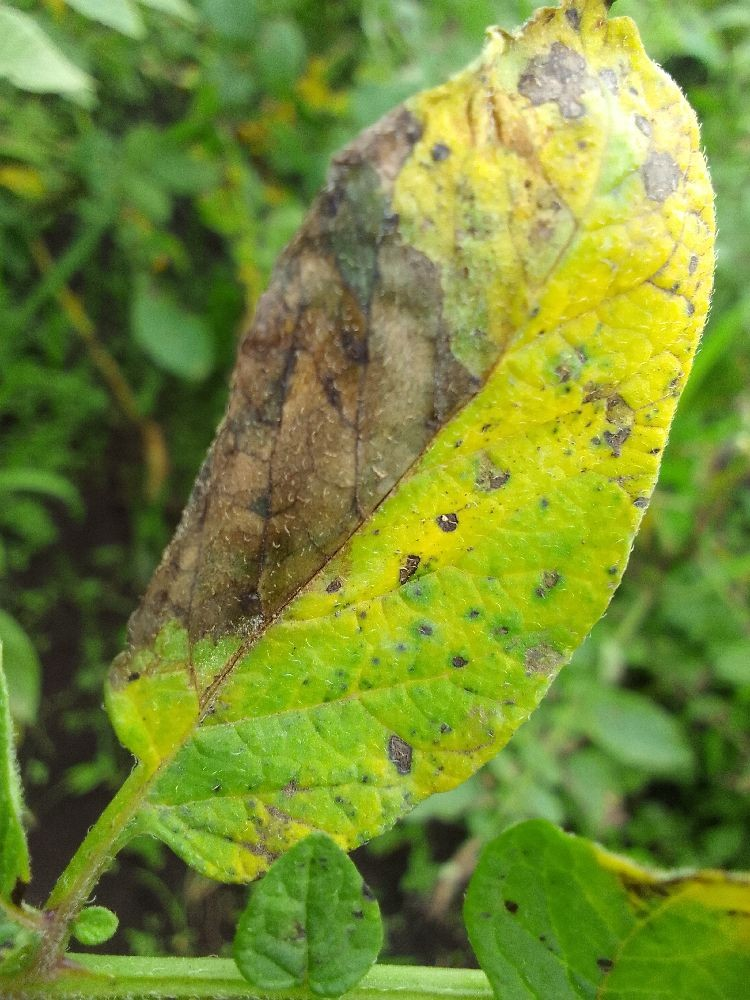late_blight: (329, 796, 497, 987), (12, 151, 99, 296), (95, 46, 210, 147)
